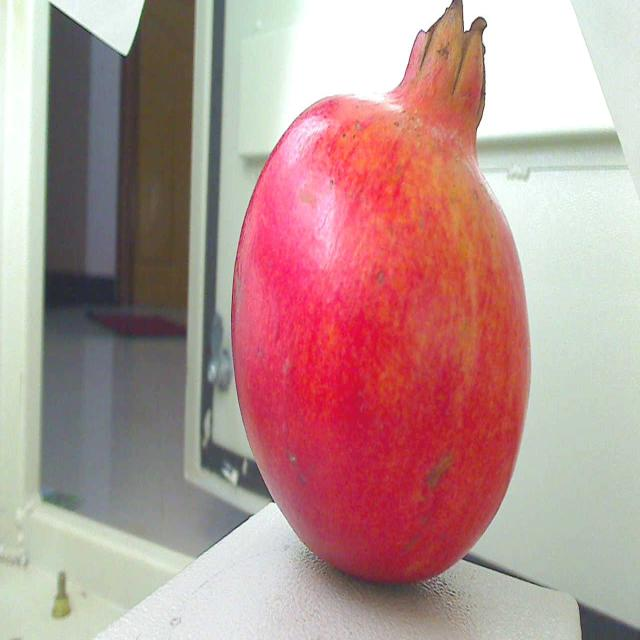pomegranate: (224, 0, 539, 592)
